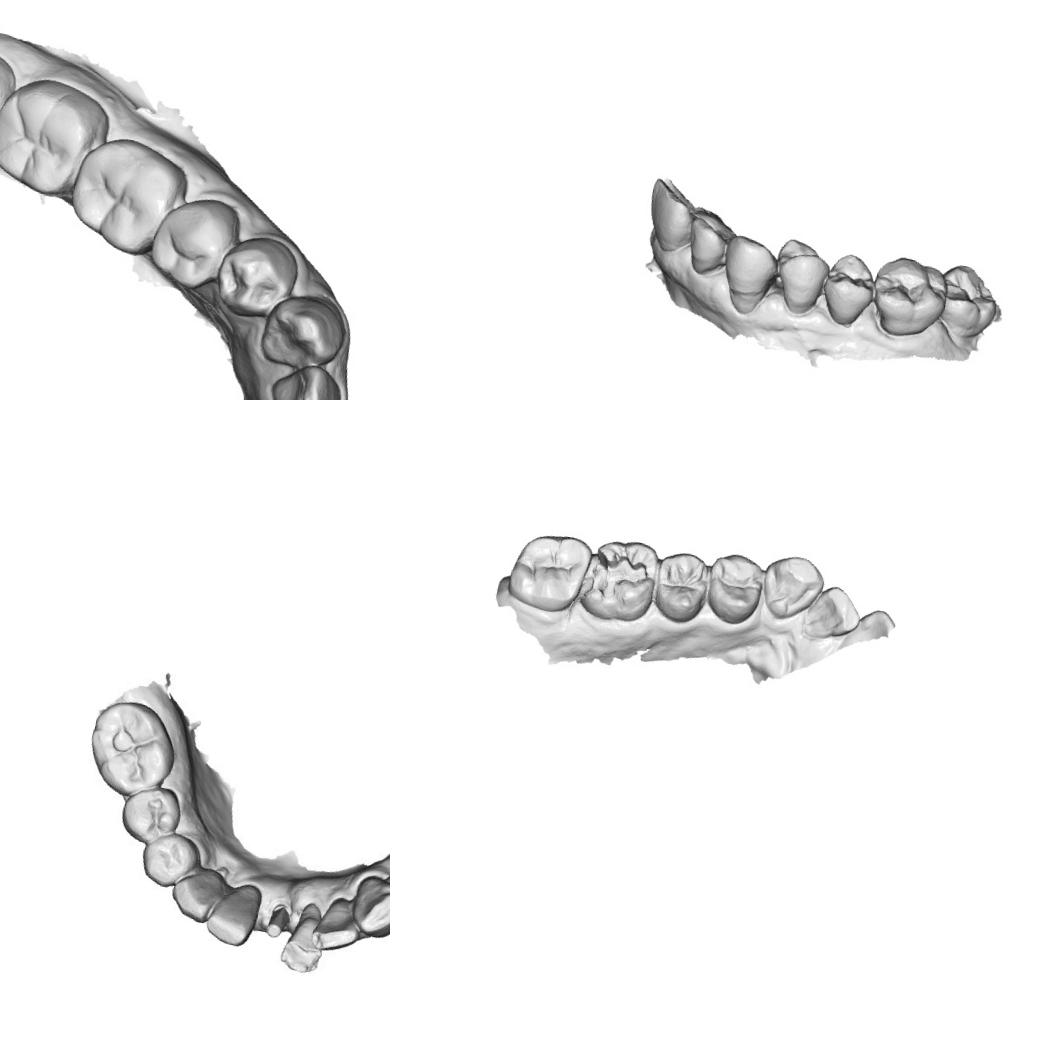abutment: (262, 902, 294, 939)
canine: (256, 287, 351, 374), (755, 549, 829, 626), (713, 232, 781, 310), (164, 859, 227, 927), (350, 871, 390, 934)
incisor: (272, 896, 333, 982), (640, 173, 700, 257), (799, 579, 866, 647), (681, 204, 738, 280), (202, 880, 265, 946), (264, 358, 343, 400), (313, 890, 364, 954)
molar: (62, 129, 192, 262), (0, 70, 116, 203), (81, 697, 174, 797), (503, 524, 594, 618), (864, 251, 952, 347), (575, 531, 663, 627), (931, 260, 1004, 345)
premolar: (146, 190, 240, 293), (215, 233, 294, 318), (700, 546, 768, 630), (766, 236, 833, 320), (646, 545, 713, 627), (816, 248, 880, 330), (118, 780, 178, 846), (140, 830, 195, 886)
